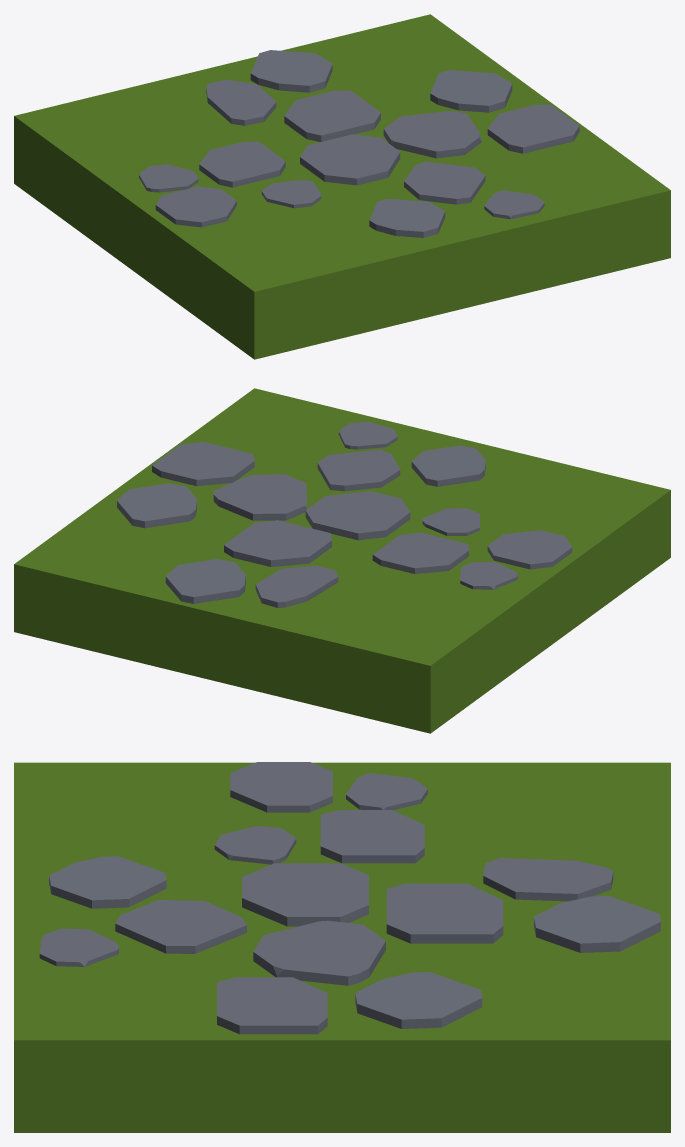
Rendered from RockCrossroads.fbx.
3 views of the same model, one above another, from view 1: azimuth 30°, elevation 25°; view 2: azimuth 150°, elevation 25°; view 3: azimuth 270°, elevation 25° (orthographic). The views are drawn at different scales.
Visible parts, largest first — view 1: RockCrossroads; view 2: RockCrossroads; view 3: RockCrossroads.
Part boxes in pixels (x1,y1,x2,y2): RockCrossroads: [14, 14, 670, 359]; RockCrossroads: [14, 388, 670, 733]; RockCrossroads: [14, 762, 670, 1132].
Bounding box in the file's own units: 450 × 77.12 × 450.
